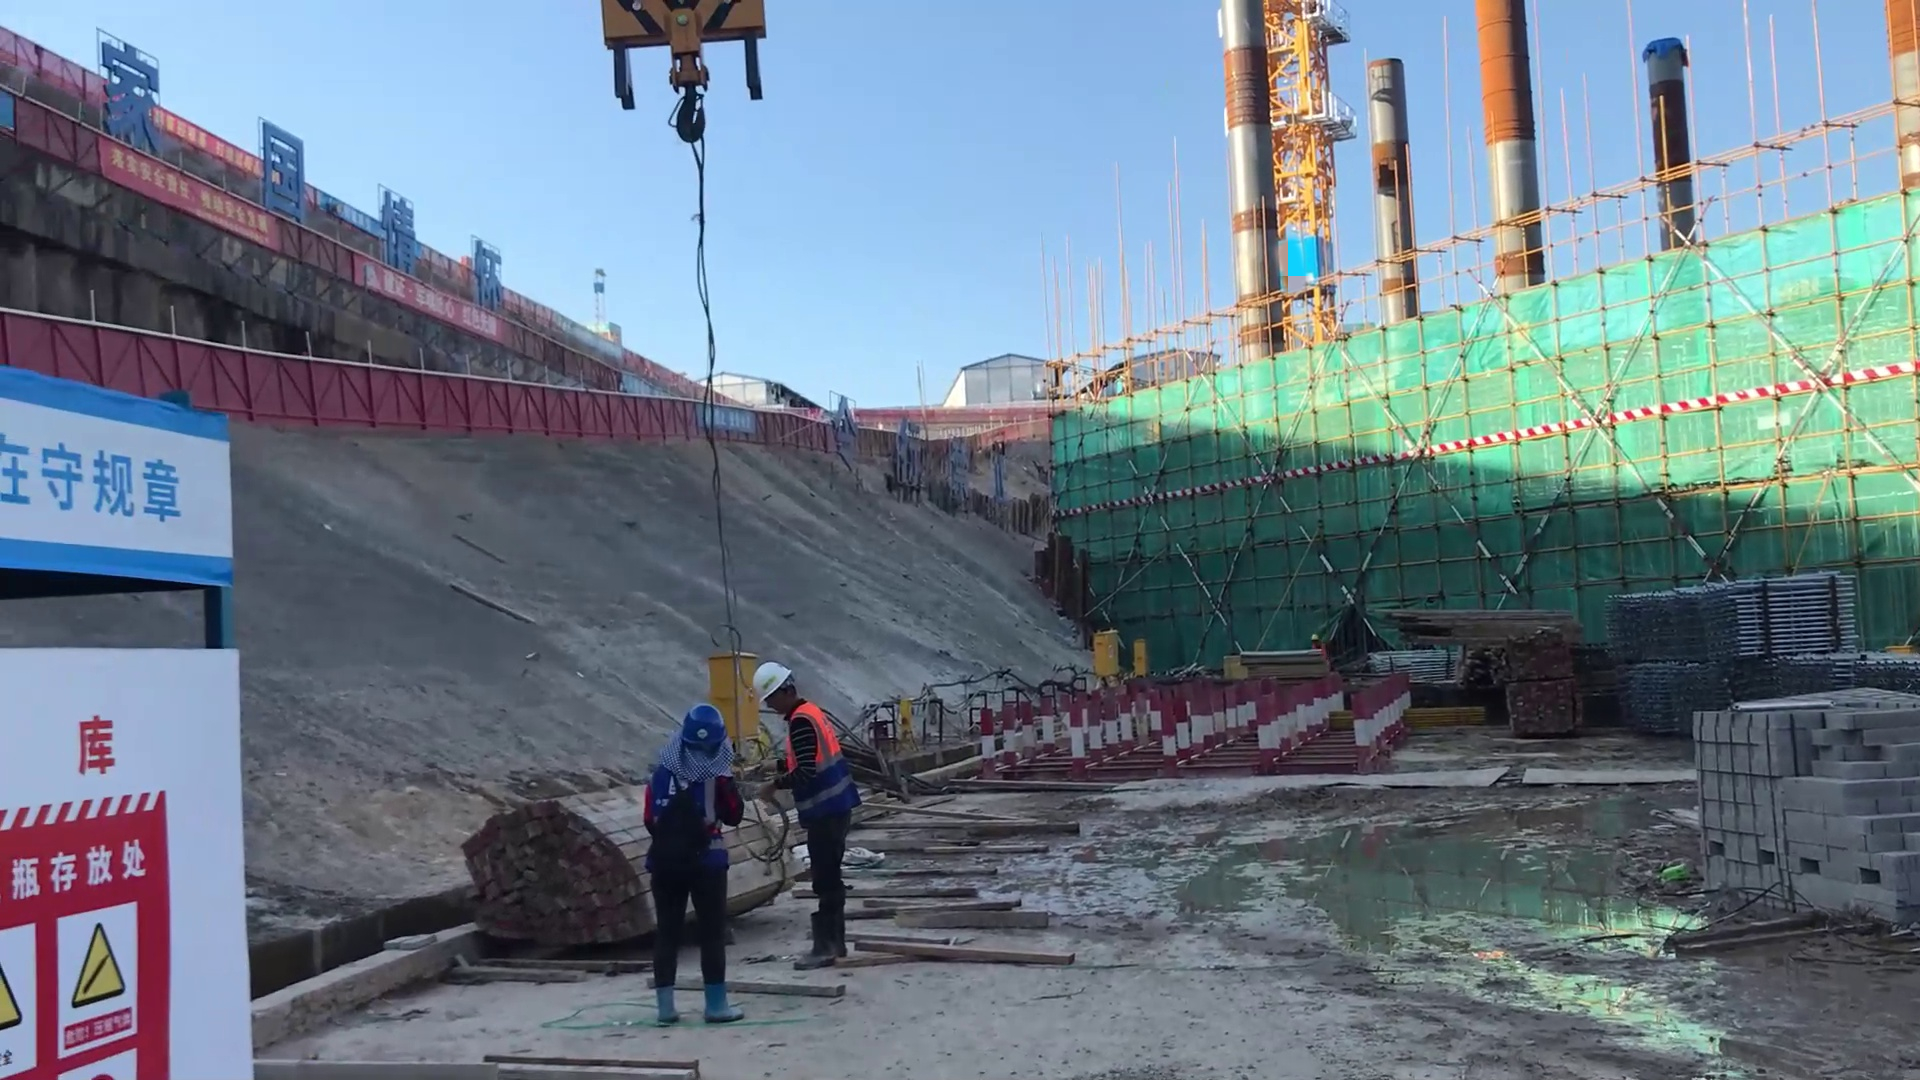brick: (1693, 698, 1920, 938)
ebox: (693, 648, 760, 731), (1087, 625, 1120, 685)
fence: (1, 308, 401, 438), (396, 364, 666, 445)
helmet: (747, 656, 803, 715), (671, 704, 725, 758), (1308, 633, 1323, 647)
hook: (604, 1, 771, 113)
person: (744, 653, 879, 965), (640, 706, 744, 1022), (1303, 632, 1327, 656)
scaffold: (1601, 557, 1884, 671)
slogan: (28, 842, 202, 1080), (1, 418, 192, 544)
vest: (785, 707, 838, 765)
wood: (443, 783, 633, 970), (1381, 578, 1582, 659)
